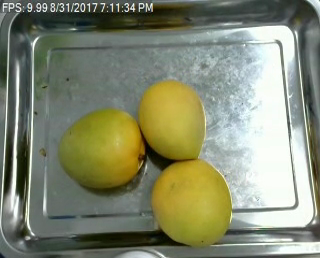Mango: (53, 108, 147, 191), (151, 160, 234, 244), (136, 78, 205, 161)
